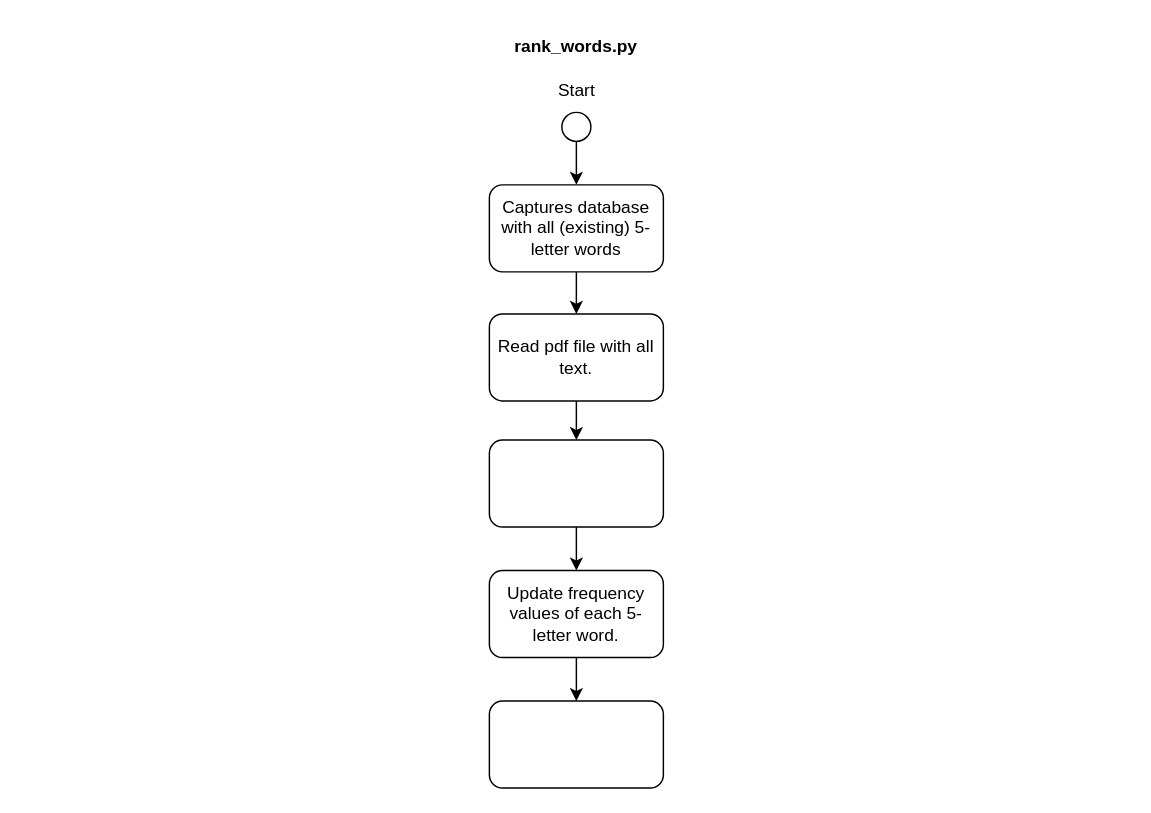
Some shapes in this 1151 by 813 pixel diagram are drawn without their labels. The centre of each missing label's shape, as x and y in pixels:
For each (existsing) 5-letter word, count how many times it appears on the text.: the point at 575,483
Sort database values by frequency: the point at 575,744
